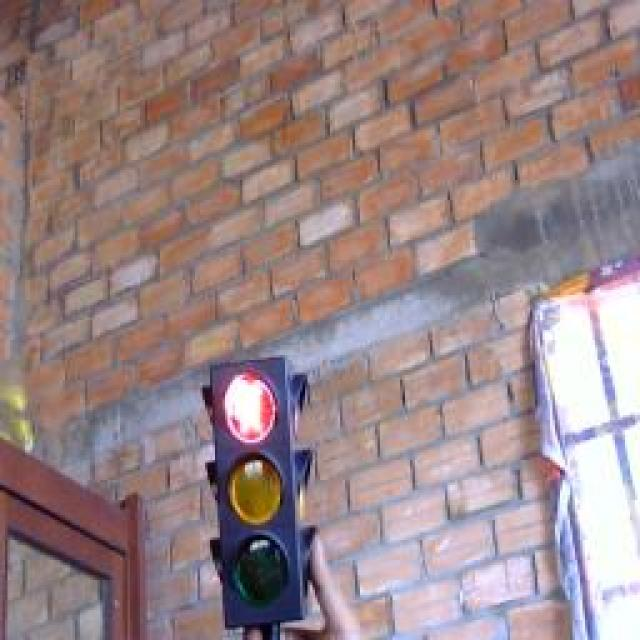-: (221, 368, 289, 453)
